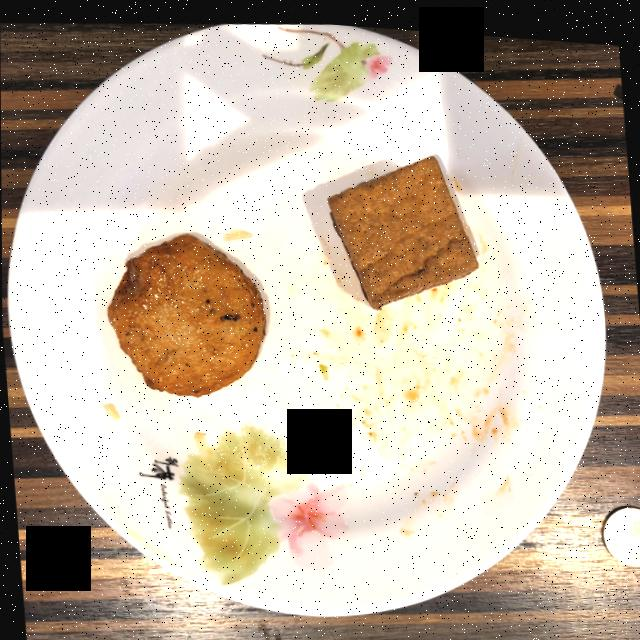coin: (601, 495, 640, 554)
egg tofu: (326, 149, 477, 301)
fish cake: (107, 230, 265, 392)
